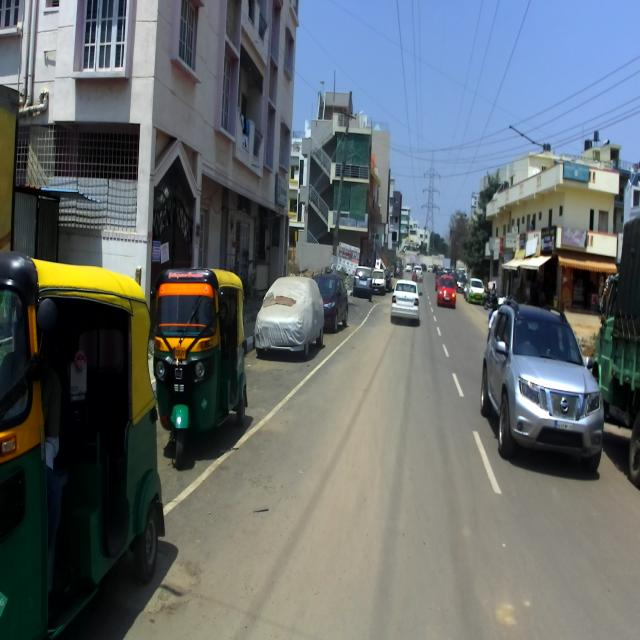auto ahead at: (0, 255, 160, 640), (157, 270, 248, 462)
car ahead at: (484, 299, 604, 469), (258, 273, 326, 361), (388, 275, 422, 328)
